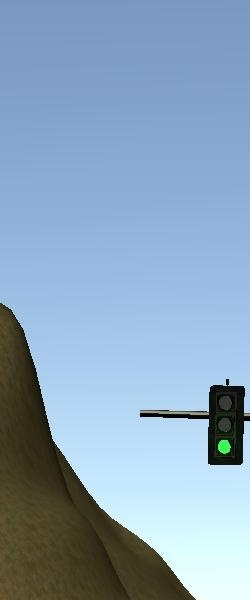Green: (206, 383, 242, 465)
